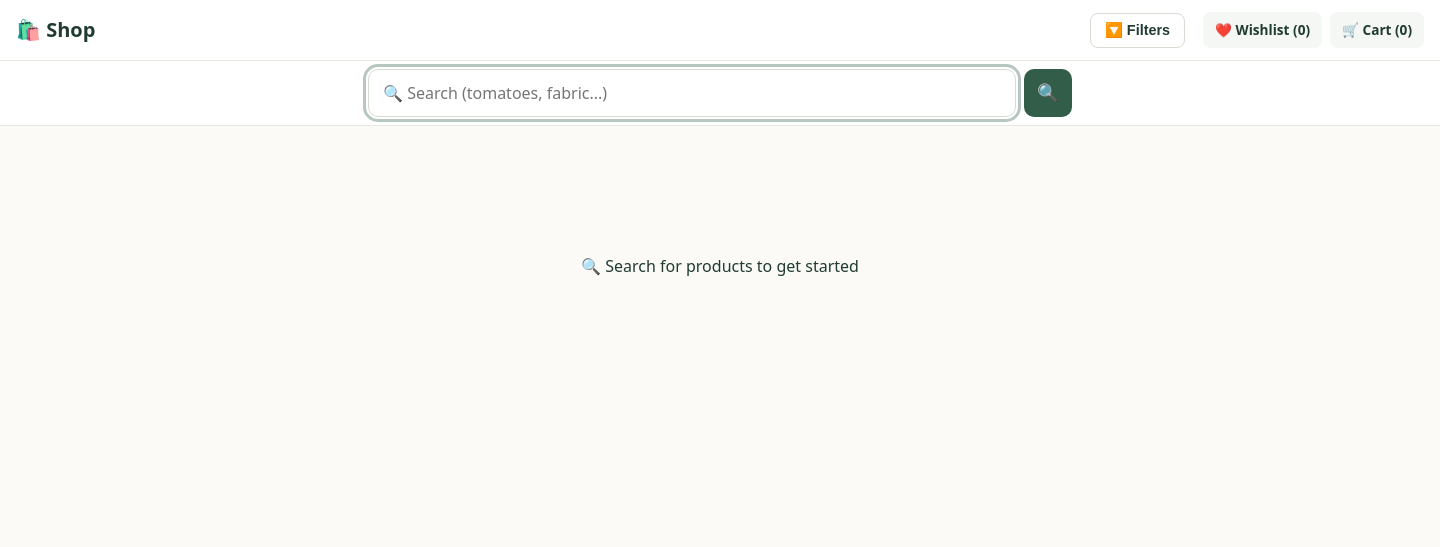
minimal shopping page › saves a product to the wishlist
Type "orange" into the field named "Search products".
click(692, 93); type("orange")  # box [368,69,1016,117]
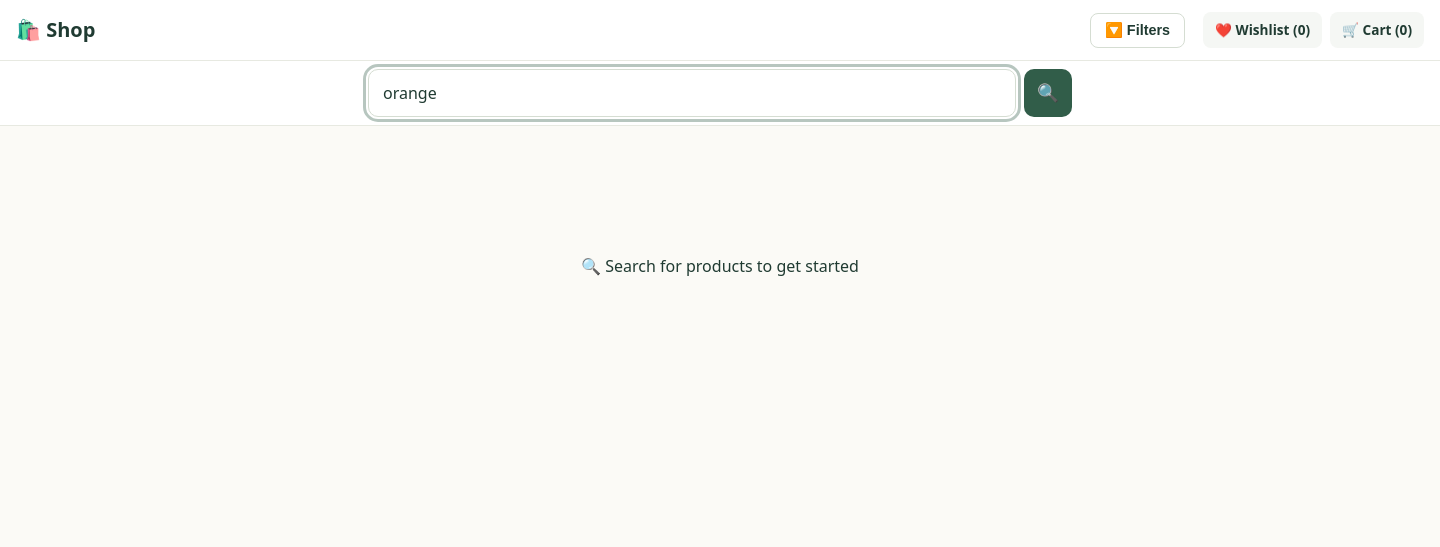
Submit the form, box [368,69,1072,117]
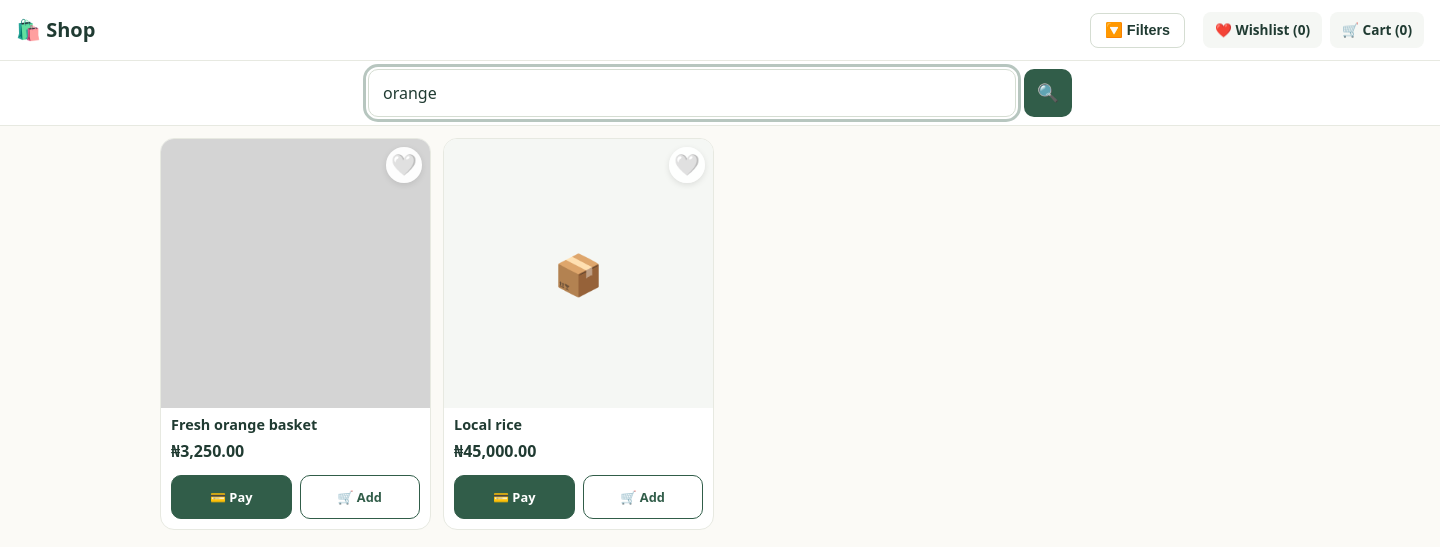
expect the heading "Fresh orange basket" is shown: met, box [171,415,317,434]
Click the button named "Add Fresh orange basket to wishlist".
click(404, 165)  # box [386,147,422,183]
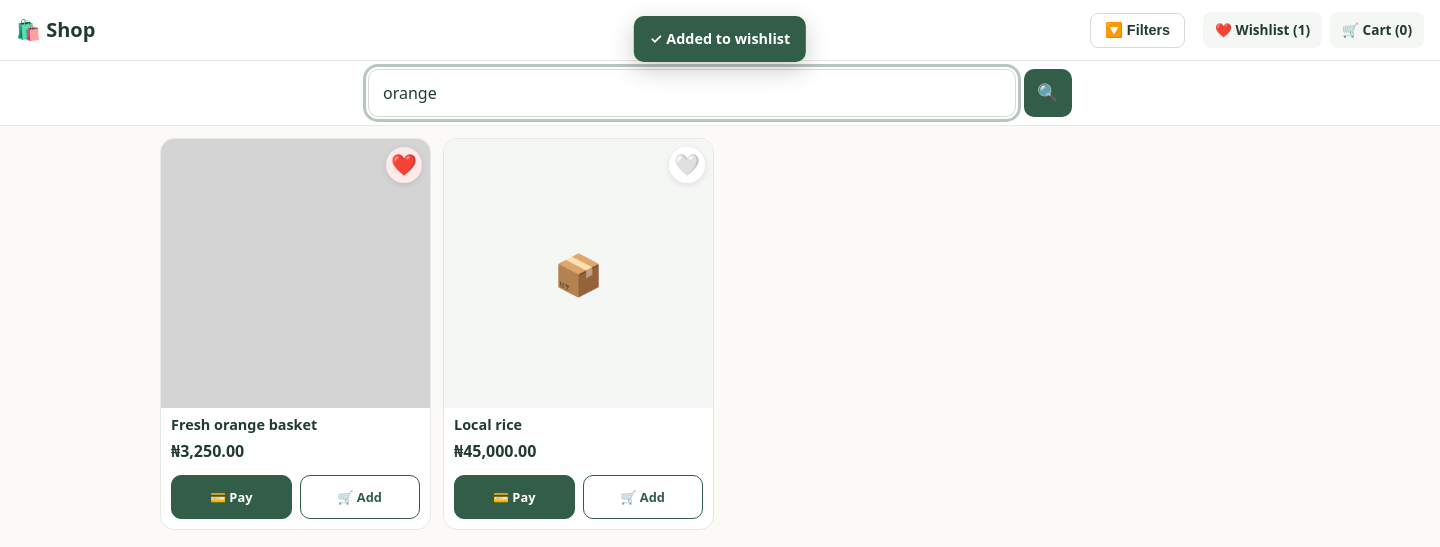
expect the link "❤️ Wishlist (1)" is shown: met, box [1203,12,1322,48]
